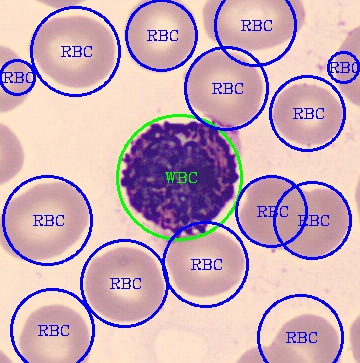RBC: (1, 178, 92, 262), (28, 14, 118, 92), (182, 48, 263, 129), (82, 245, 164, 324), (164, 227, 245, 299), (277, 185, 352, 260), (200, 0, 308, 51), (122, 1, 197, 74), (238, 172, 305, 251), (271, 83, 345, 148), (19, 302, 92, 362), (273, 312, 342, 362)
WBC: (119, 119, 239, 236)
